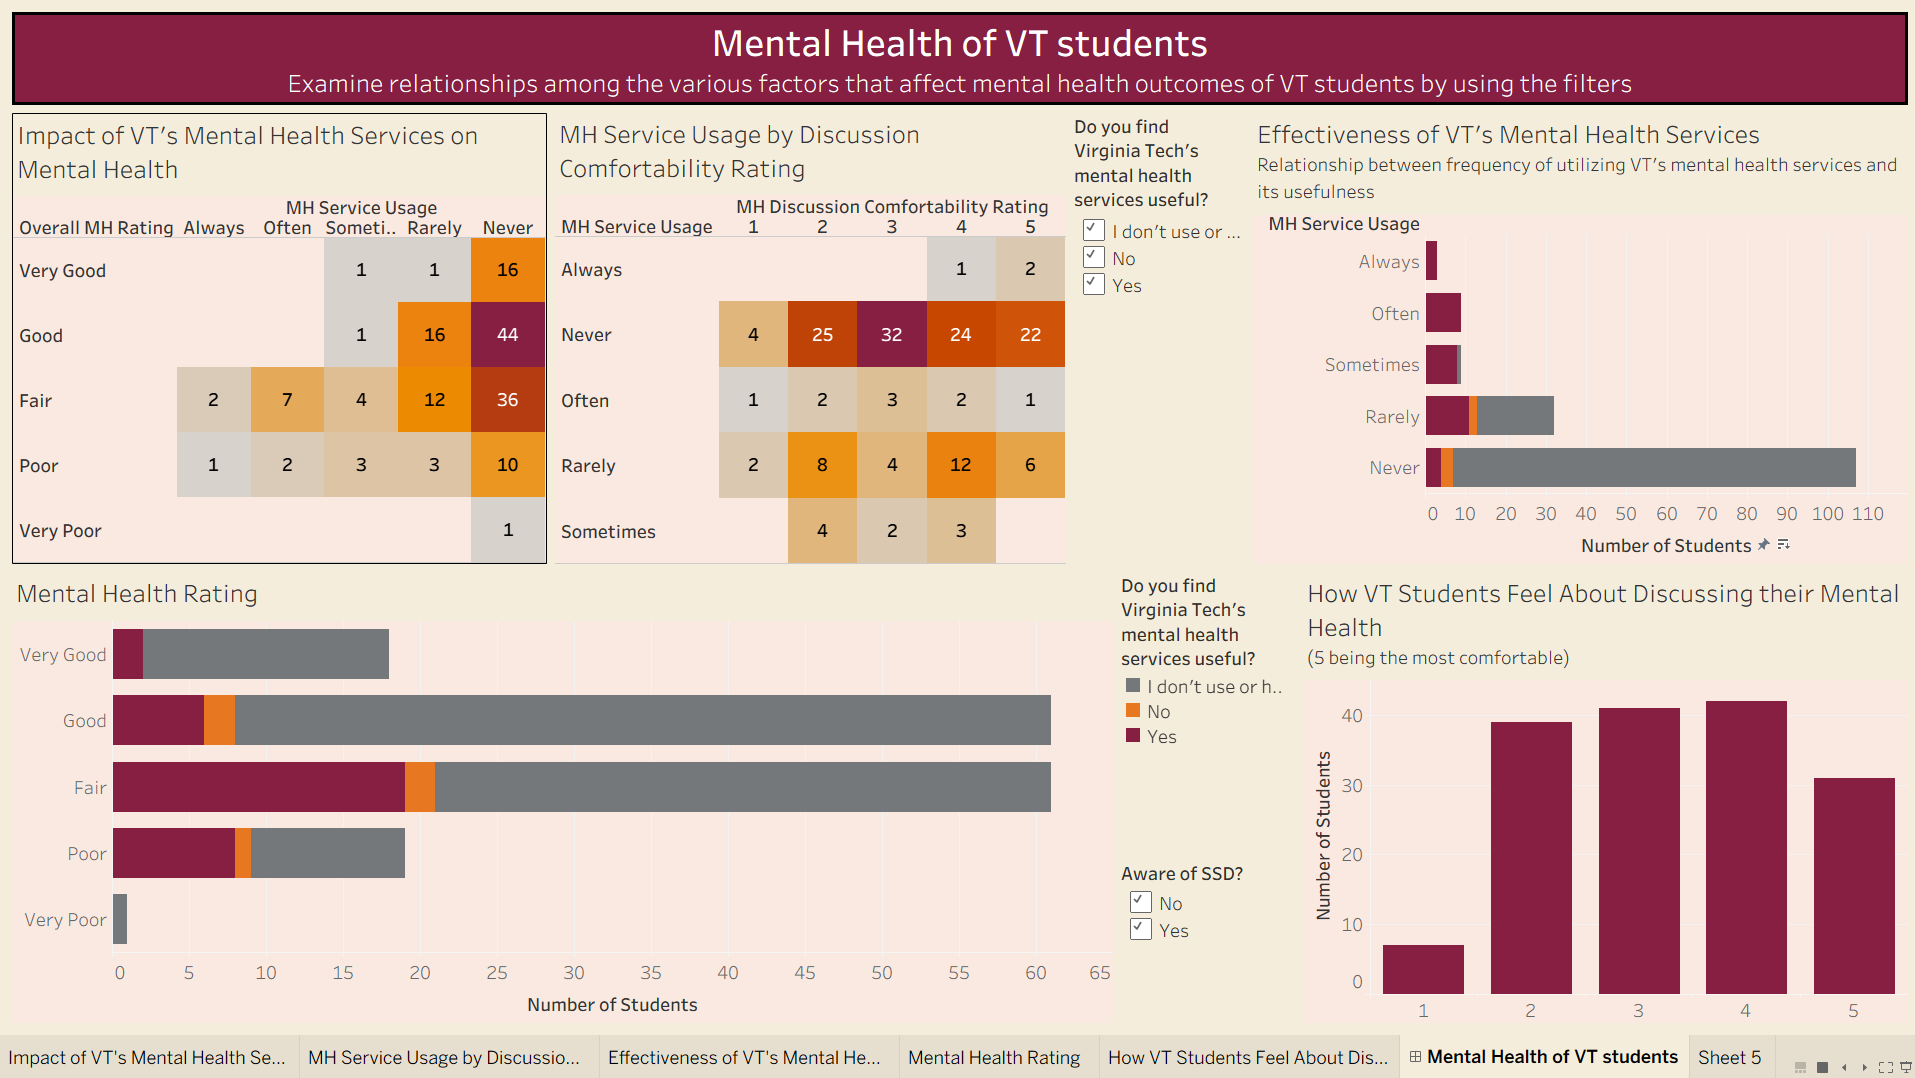

Layout of this report page (visuals, bound fields, positions):
{"tool":"tableau","page":{"name":"Mental Health of VT students","canvas":[1000,1000],"units":"permille","ordinal":0},"visuals":[{"type":"title","box":[5,9.9,990,125.3]},{"type":"worksheet","title":"Impact of VT's Mental Health Services on Mental Health","mark":"Square","rows":["Overall, what would you rate your mental health and well-bei"],"box":[5,135.2,282.4,427.2]},{"type":"worksheet","title":"MH Service Usage by Discussion Comfortability Rating","mark":"Square","box":[287.4,135.2,269.9,427.2]},{"type":"filter","title":"Effectiveness of VT's Mental Health Services","param":"[federated.1u9g3lk1roxg3414q20zv1qaxqw4].[none:Do you find Virginia Tech's menta","box":[557.3,135.2,92.9,427.2]},{"type":"worksheet","title":"Effectiveness of VT's Mental Health Services","mark":"Automatic","cols":["Do you find Virginia Tech's mental health services useful?"],"box":[650.2,135.2,344.8,427.2]},{"type":"worksheet","title":"Mental Health Rating","mark":"Automatic","rows":["Overall, what would you rate your mental health and well-bei"],"cols":["Overall, what would you rate your mental health and well-bei"],"box":[5,562.5,576.7,427.6]},{"type":"legend","title":"Effectiveness of VT's Mental Health Services","param":"[federated.1u9g3lk1roxg3414q20zv1qaxqw4].[none:Do you find Virginia Tech's menta","box":[581.6,562.5,94.7,268.7]},{"type":"worksheet","title":"How VT Students Feel About Discussing their Mental Health","mark":"Automatic","box":[676.4,562.5,318.6,427.6]},{"type":"filter","title":"Mental Health Rating","param":"[federated.1u9g3lk1roxg3414q20zv1qaxqw4].[none:Do you know about Virginia Tech's","box":[581.6,831.1,94.7,159]}]}

Visuals, with their boxes on the dashboard's canvas, which has no fixed pixel size, in thousandths of its width and height (x1, y1, x2, y2). These are canvas units, not pixel positions in the 1915x1078 screenshot, which may show the page scaled, cropped or inside an application window:
title: [left=5, top=10, right=995, bottom=135]
"Impact of VT's Mental Health Services on Mental Health" worksheet (Square marks): [left=5, top=135, right=287, bottom=562]
"MH Service Usage by Discussion Comfortability Rating" worksheet (Square marks): [left=287, top=135, right=557, bottom=562]
"Effectiveness of VT's Mental Health Services" filter: [left=557, top=135, right=650, bottom=562]
"Effectiveness of VT's Mental Health Services" worksheet: [left=650, top=135, right=995, bottom=562]
"Mental Health Rating" worksheet: [left=5, top=562, right=582, bottom=990]
"Effectiveness of VT's Mental Health Services" legend: [left=582, top=562, right=676, bottom=831]
"How VT Students Feel About Discussing their Mental Health" worksheet: [left=676, top=562, right=995, bottom=990]
"Mental Health Rating" filter: [left=582, top=831, right=676, bottom=990]
